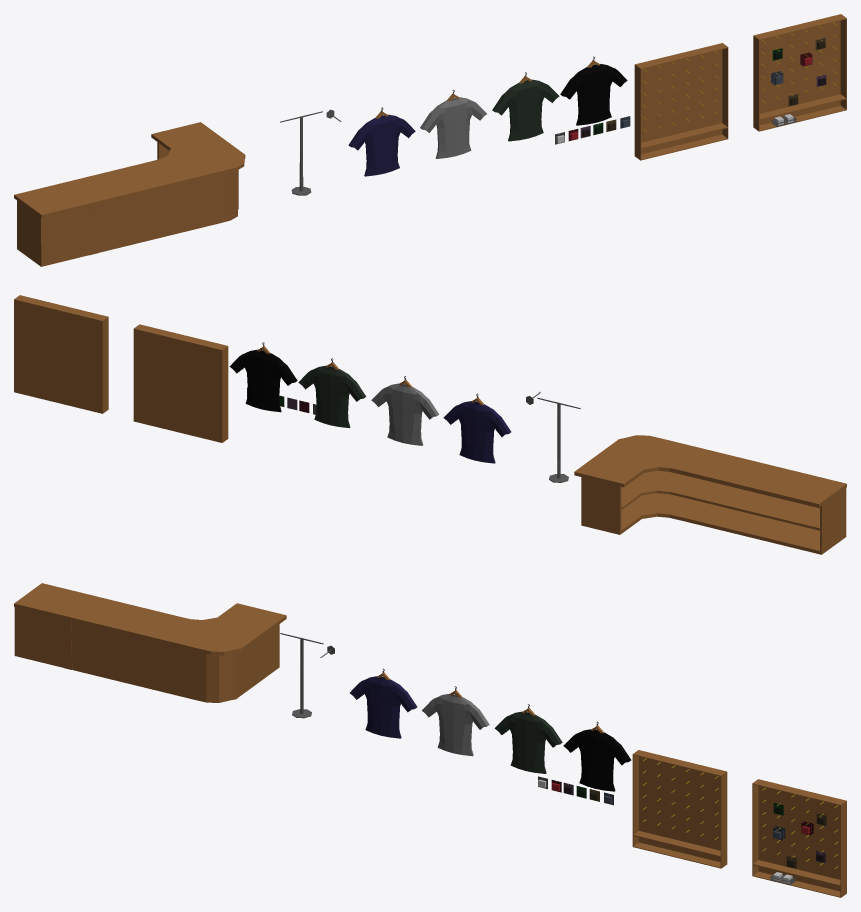
The model's file is Giftshop Pack.fbx.
The picture shows the model from 3 angles, top to bottom: view 1: azimuth 30°, elevation 25°; view 2: azimuth 150°, elevation 25°; view 3: azimuth 330°, elevation 25°; orthographic projection.
Visible parts, largest first — view 1: Gift shop counter, Wall Rack Empty, Wall Rack, Shirt1, Shirt4, Shirt2, Shirt3; view 2: Gift shop counter, Wall Rack Empty, Wall Rack, Shirt4, Shirt1, Shirt3, Shirt2, Stand; view 3: Gift shop counter, Wall Rack Empty, Wall Rack, Shirt1, Shirt4, Shirt2, Shirt3.
Part boxes in pixels (bbox=[...]): Gift shop counter: bbox=[14, 122, 245, 266]; Wall Rack Empty: bbox=[634, 43, 728, 160]; Wall Rack: bbox=[753, 14, 846, 131]; Shirt1: bbox=[348, 107, 415, 176]; Shirt4: bbox=[560, 56, 627, 125]; Shirt2: bbox=[420, 90, 486, 158]; Shirt3: bbox=[492, 72, 559, 141]; Gift shop counter: bbox=[574, 435, 846, 554]; Wall Rack Empty: bbox=[133, 324, 228, 442]; Wall Rack: bbox=[14, 295, 108, 413]; Shirt4: bbox=[229, 342, 297, 412]; Shirt1: bbox=[443, 393, 511, 463]; Shirt3: bbox=[298, 358, 366, 428]; Shirt2: bbox=[371, 376, 439, 445]; Stand: bbox=[537, 397, 580, 482]; Gift shop counter: bbox=[14, 583, 286, 702]; Wall Rack Empty: bbox=[632, 750, 727, 868]; Wall Rack: bbox=[752, 779, 846, 897]; Shirt1: bbox=[350, 668, 417, 738]; Shirt4: bbox=[563, 721, 631, 791]; Shirt2: bbox=[422, 686, 489, 756]; Shirt3: bbox=[494, 704, 562, 773].
Bounding box in the file's own units: 18.49 × 2.63 × 2.19.
